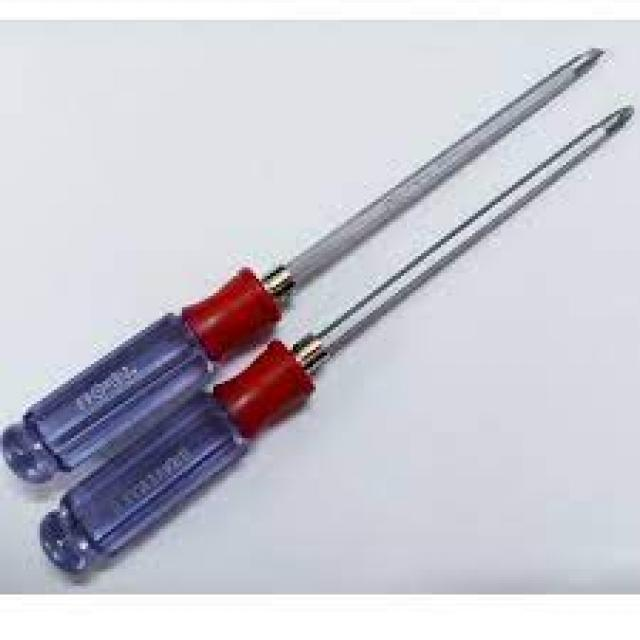screwdriver: (38, 104, 636, 574), (2, 44, 610, 485)
